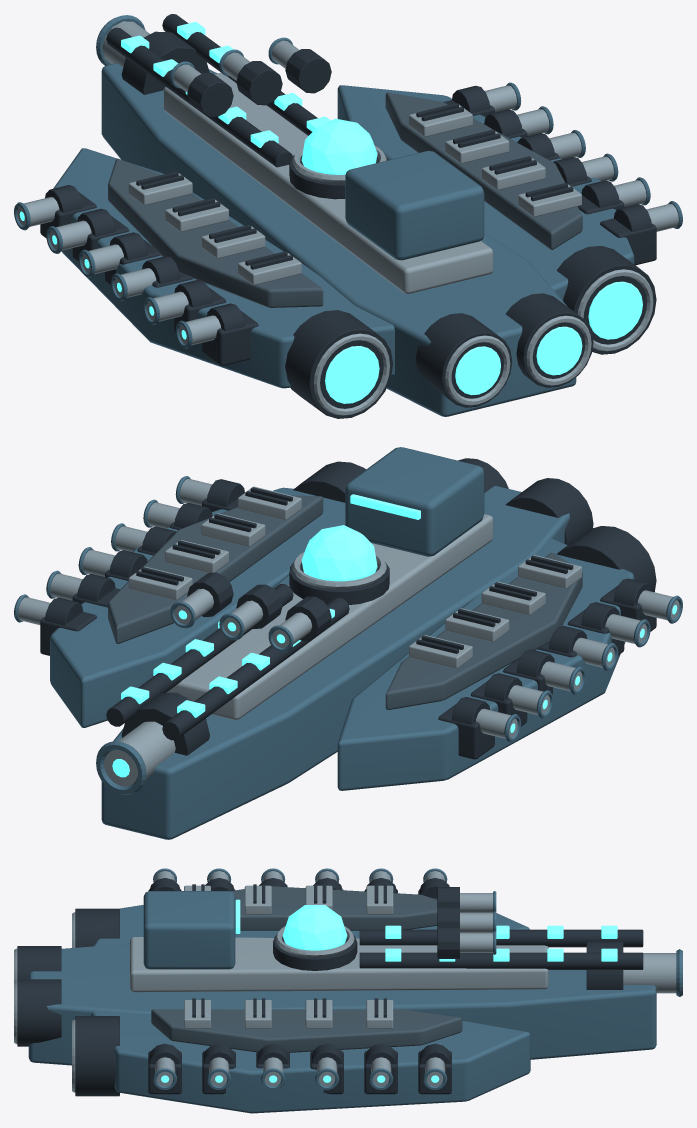
File: chapter4Boss_leviata.glb
3 views of the same model, one above another, from view 1: azimuth 30°, elevation 25°; view 2: azimuth 150°, elevation 25°; view 3: azimuth 270°, elevation 25° (orthographic). The views are drawn at different scales.
Parts seen in each view (by area): view 1: chapter4Boss | LEVIATA | armor, chapter4Boss | Graphite chassis, chapter4Boss | Titanium, chapter4Boss | LEVIATA | secondary, chapter4Boss | LEVIATA | energy; view 2: chapter4Boss | LEVIATA | armor, chapter4Boss | Graphite chassis, chapter4Boss | Titanium, chapter4Boss | LEVIATA | secondary, chapter4Boss | LEVIATA | energy; view 3: chapter4Boss | LEVIATA | armor, chapter4Boss | Graphite chassis, chapter4Boss | Titanium, chapter4Boss | LEVIATA | secondary, chapter4Boss | LEVIATA | energy.
Part boxes in pixels (<box>): chapter4Boss | LEVIATA | armor: <box>14,15,682,416</box>; chapter4Boss | Graphite chassis: <box>40,14,656,418</box>; chapter4Boss | Titanium: <box>17,21,678,415</box>; chapter4Boss | LEVIATA | secondary: <box>108,92,582,307</box>; chapter4Boss | LEVIATA | energy: <box>19,22,642,403</box>; chapter4Boss | LEVIATA | armor: <box>14,447,682,839</box>; chapter4Boss | Graphite chassis: <box>40,458,656,759</box>; chapter4Boss | Titanium: <box>18,478,679,786</box>; chapter4Boss | LEVIATA | secondary: <box>108,495,582,709</box>; chapter4Boss | LEVIATA | energy: <box>112,494,677,777</box>; chapter4Boss | LEVIATA | armor: <box>28,868,682,1113</box>; chapter4Boss | Graphite chassis: <box>17,878,643,1096</box>; chapter4Boss | Titanium: <box>14,871,676,1092</box>; chapter4Boss | LEVIATA | secondary: <box>151,886,462,1052</box>; chapter4Boss | LEVIATA | energy: <box>161,899,617,1082</box>.
Bounding box in the file's own units: 3.52 × 1.09 × 4.95.
